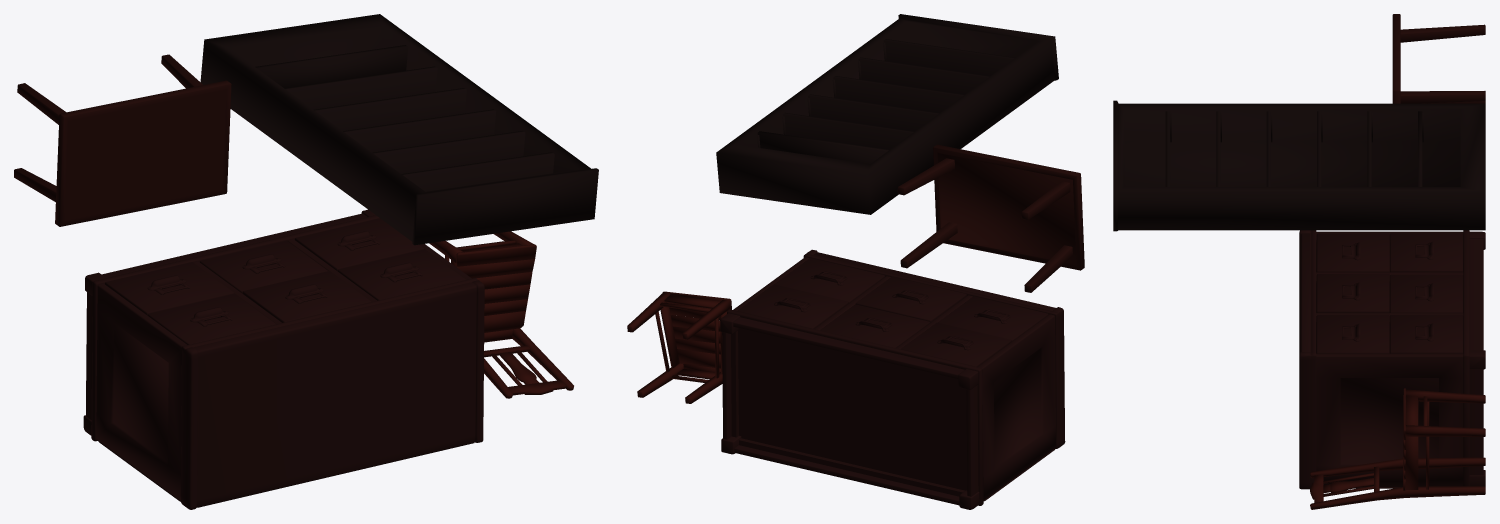
Rendered from scene_0001_diffuse.obj.
3 renders of one model, left to right at view 1: azimuth 30°, elevation 25°; view 2: azimuth 150°, elevation 25°; view 3: azimuth 270°, elevation 25°, orthographic. The views are drawn at different scales.
Visible parts, largest first — view 1: diffuse_cabinet_01, diffuse_shelf_03, diffuse_table_02, diffuse_chair_04; view 2: diffuse_cabinet_01, diffuse_shelf_03, diffuse_table_02, diffuse_chair_04; view 3: diffuse_shelf_03, diffuse_cabinet_01, diffuse_chair_04, diffuse_table_02.
Boxes of the visible parts, x1,y1,x2,y2 form: diffuse_cabinet_01: (83,209,484,509); diffuse_shelf_03: (200,14,598,245); diffuse_table_02: (14,54,231,226); diffuse_chair_04: (429,231,573,398); diffuse_cabinet_01: (720,249,1065,509); diffuse_shelf_03: (716,14,1058,214); diffuse_table_02: (897,144,1084,292); diffuse_chair_04: (627,291,731,403); diffuse_shelf_03: (1113,100,1485,231); diffuse_cabinet_01: (1299,230,1485,489); diffuse_chair_04: (1310,388,1485,509); diffuse_table_02: (1392,14,1485,103).
Size of the model in its own units: 244 by 181 by 189.
